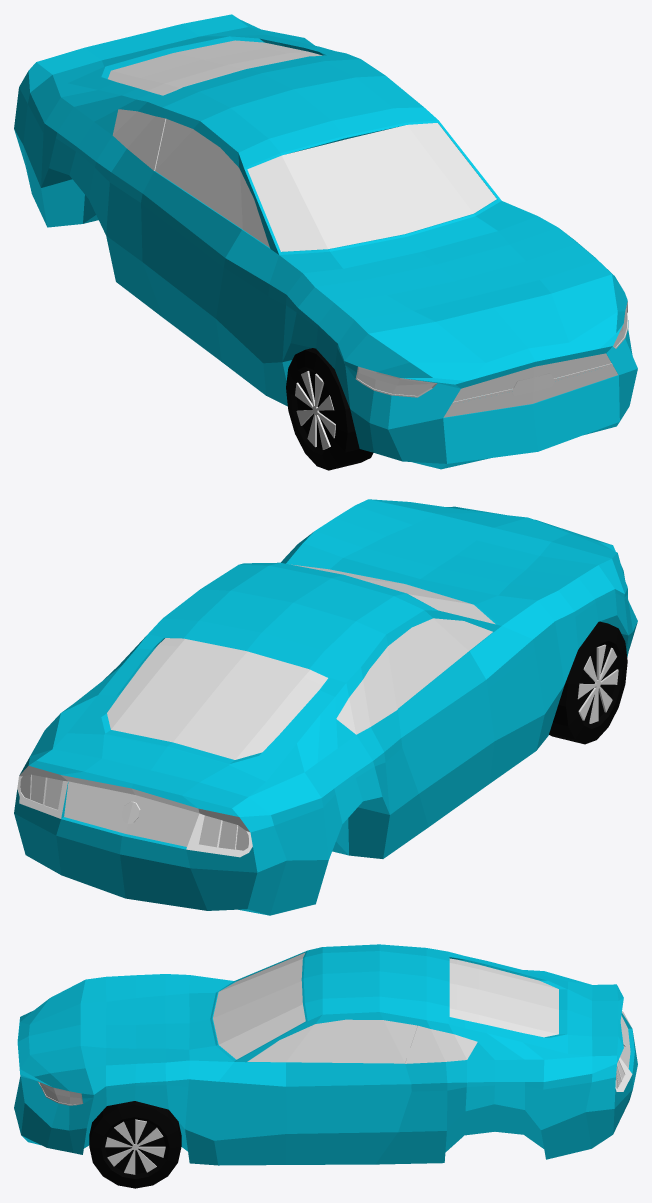
The model's file is mustang 2015gt.fbx.
3 views of the same model, one above another, from view 1: azimuth 30°, elevation 25°; view 2: azimuth 150°, elevation 25°; view 3: azimuth 270°, elevation 25° (orthographic). The views are drawn at different scales.
Parts seen in each view (by area): view 1: Body, Wheel_FR; view 2: Body, Wheel_FR; view 3: Body, Wheel_FL.
Boxes of the visible parts, x1=… form: Body: x1=14, y1=14, x2=637, y2=469; Wheel_FR: x1=286, y1=348, x2=373, y2=470; Body: x1=14, y1=499, x2=637, y2=915; Wheel_FR: x1=549, y1=621, x2=627, y2=744; Body: x1=14, y1=944, x2=637, y2=1165; Wheel_FL: x1=89, y1=1101, x2=181, y2=1188.
Size of the model in its own units: 112 by 81.19 by 276.
